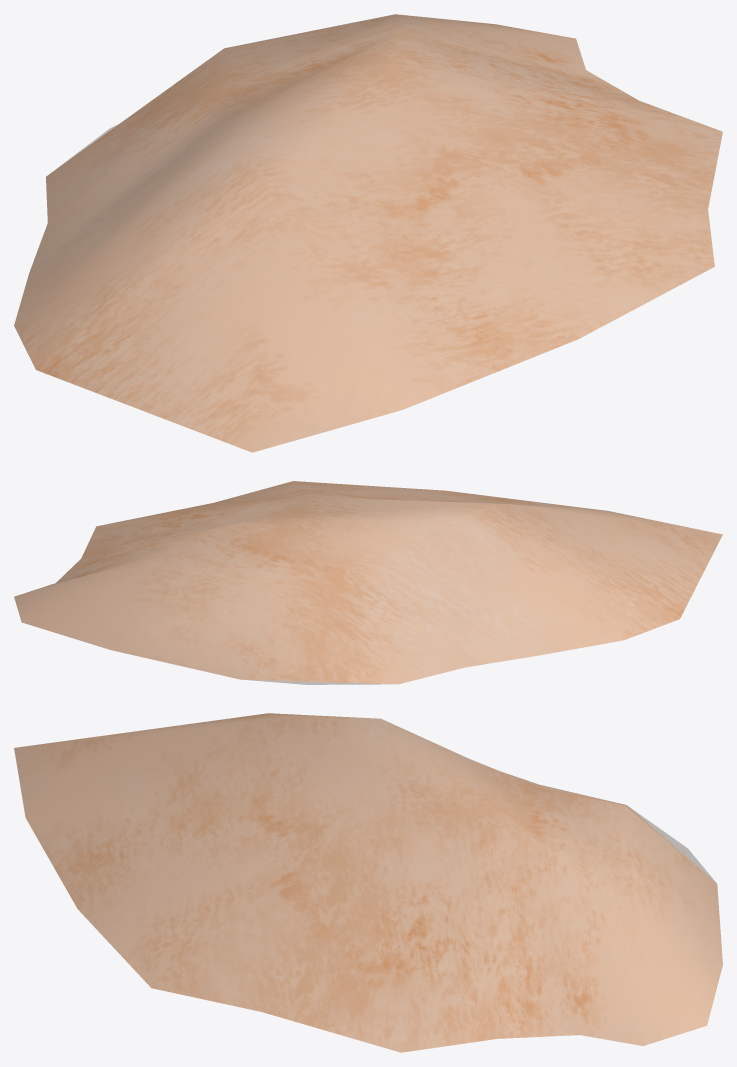
The model's file is Beach-01.FBX.
3 renders of one model, top to bottom at view 1: azimuth 30°, elevation 25°; view 2: azimuth 150°, elevation 25°; view 3: azimuth 270°, elevation 25°, orthographic. The views are drawn at different scales.
Parts seen in each view (by area): view 1: Box004; view 2: Box004; view 3: Box004.
Part boxes in pixels (bbox=[...]): Box004: bbox=[14, 14, 722, 452]; Box004: bbox=[14, 481, 722, 684]; Box004: bbox=[14, 713, 722, 1052].
Bounding box in the file's own units: 5.69 × 0.8623 × 5.03.
